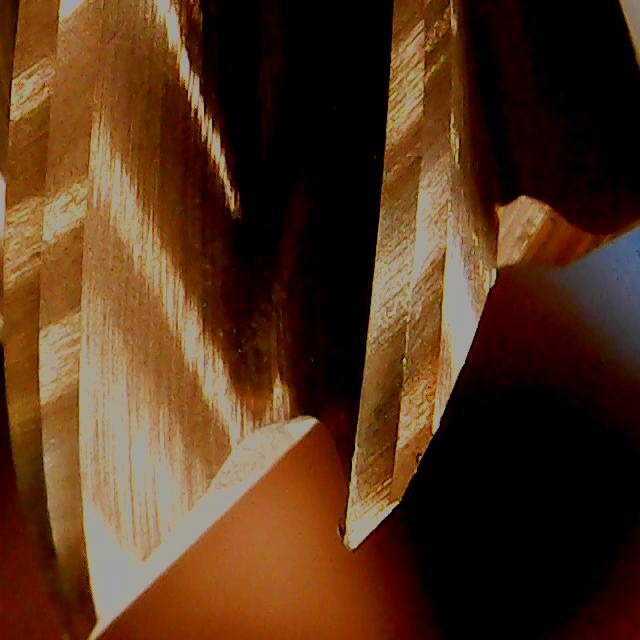Tool-wear-class-0: (314, 201, 489, 560)
